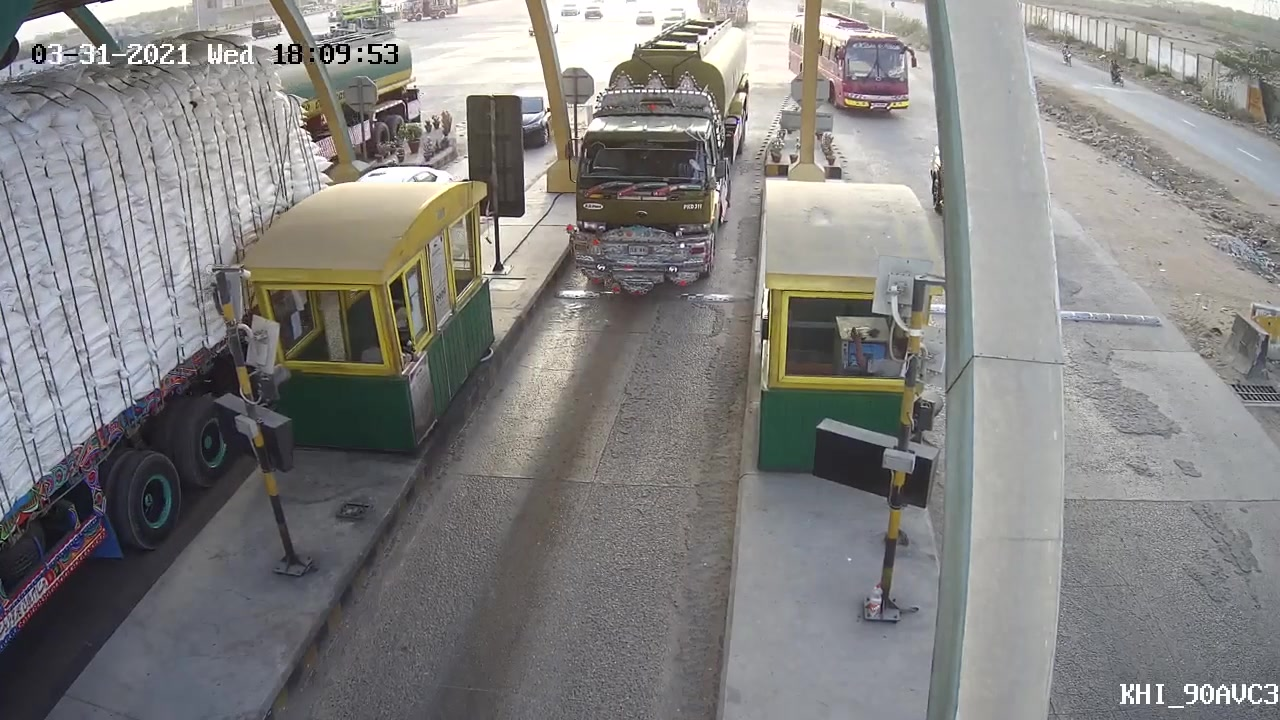F6: (561, 17, 758, 300)
